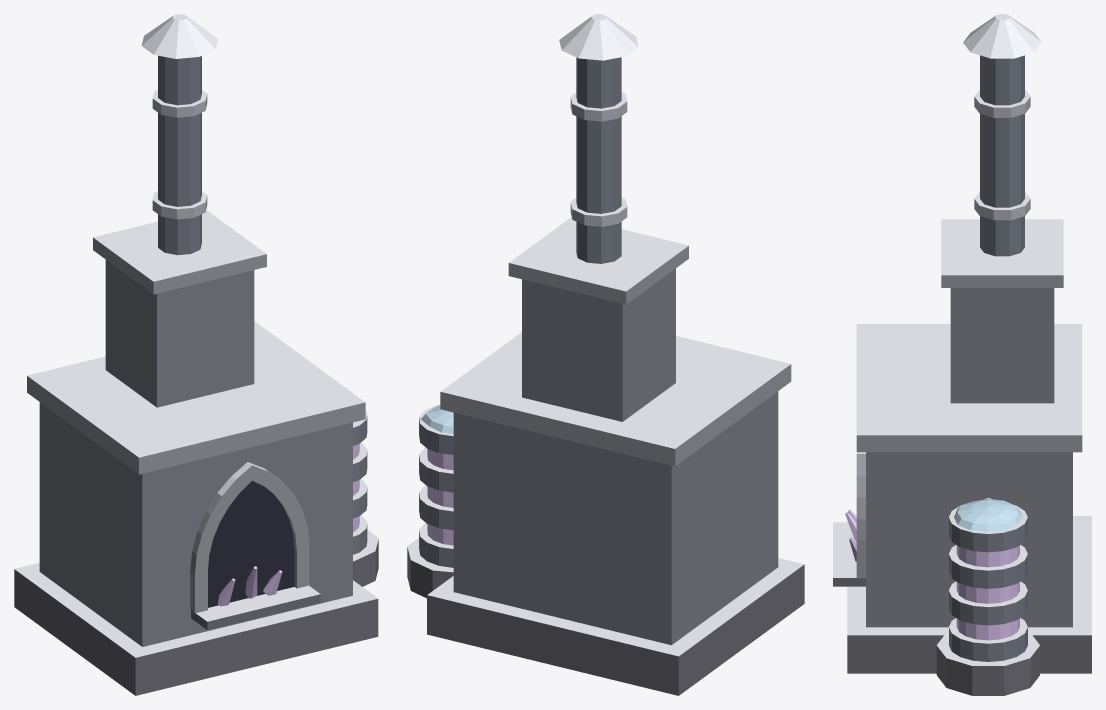
Rendered from PR_Forno_Cristal.fbx.
3 renders of one model, left to right at view 1: azimuth 30°, elevation 25°; view 2: azimuth 150°, elevation 25°; view 3: azimuth 270°, elevation 25°, orthographic. The views are drawn at different scales.
Visible parts, largest first — view 1: PR_Forno_Cristal; view 2: PR_Forno_Cristal; view 3: PR_Forno_Cristal.
Boxes of the visible parts, bbox=[...] form: PR_Forno_Cristal: bbox=[14, 14, 378, 695]; PR_Forno_Cristal: bbox=[407, 14, 804, 695]; PR_Forno_Cristal: bbox=[833, 14, 1091, 695].
Bounding box in the file's own units: 3.77 × 7 × 2.75.
